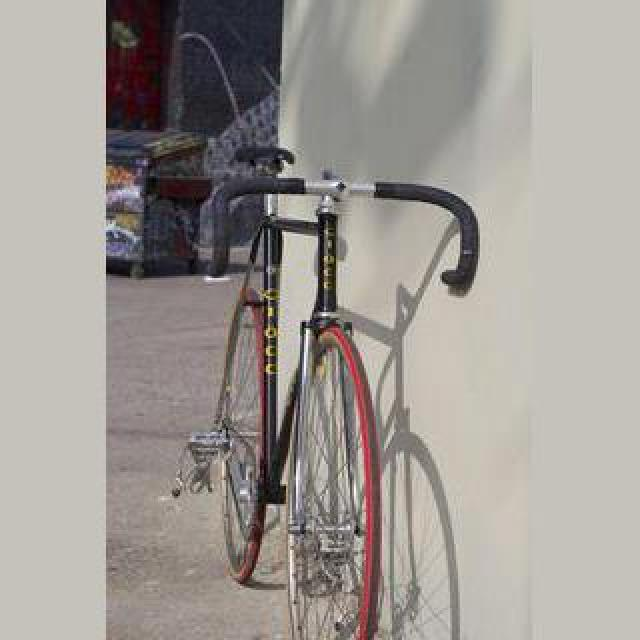Person: (199, 169, 483, 637)
